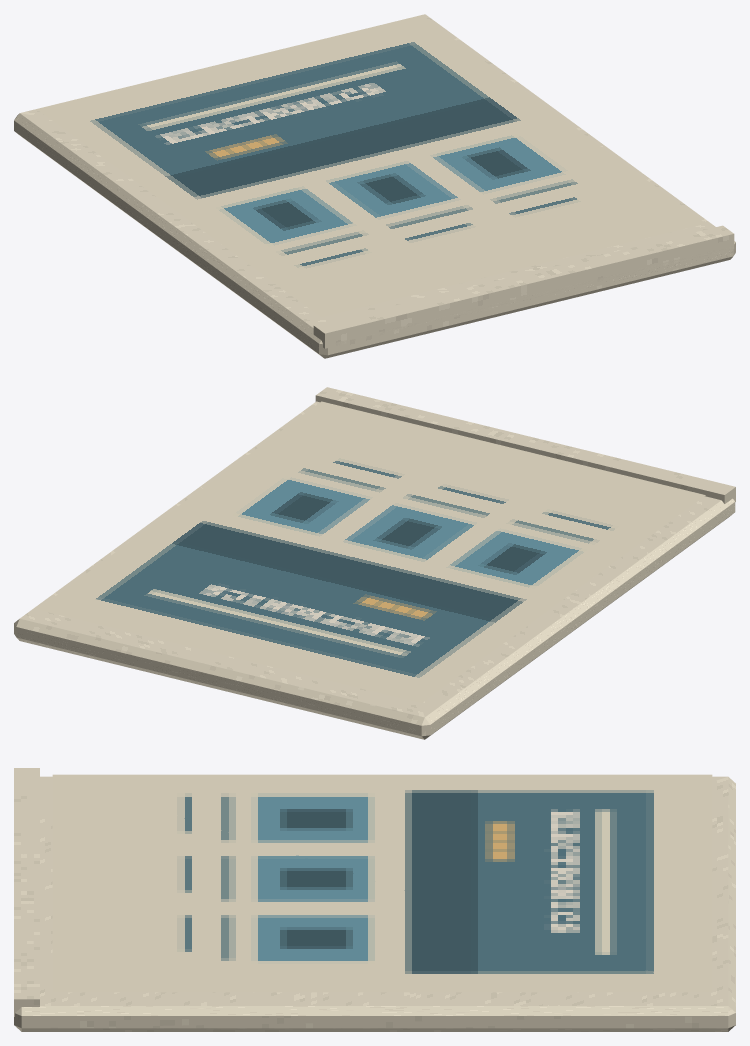
File: technologybrochure.glb
3 renders of one model, top to bottom at view 1: azimuth 30°, elevation 25°; view 2: azimuth 150°, elevation 25°; view 3: azimuth 270°, elevation 25°, orthographic. The views are drawn at different scales.
Parts seen in each view (by area): view 1: block_typeset and illustrated leaflet cover, block_folded three-panel leaflet, block_folded leaf edge; view 2: block_typeset and illustrated leaflet cover, block_folded three-panel leaflet, block_folded leaf edge; view 3: block_typeset and illustrated leaflet cover, block_folded three-panel leaflet, block_folded leaf edge.
Boxes of the visible parts, x1,y1,x2,y2 form: block_typeset and illustrated leaflet cover: (37,15,705,317); block_folded three-panel leaflet: (14,14,735,358); block_folded leaf edge: (313,225,734,348); block_typeset and illustrated leaflet cover: (37,401,705,703); block_folded three-panel leaflet: (14,401,735,739); block_folded leaf edge: (315,387,735,503); block_typeset and illustrated leaflet cover: (52,774,712,992); block_folded three-panel leaflet: (14,776,735,1031); block_folded leaf edge: (14,768,39,1016).
Bounding box in the file's own units: 0.1927 × 0.0128 × 0.2495.
1 material, 1 textured.
